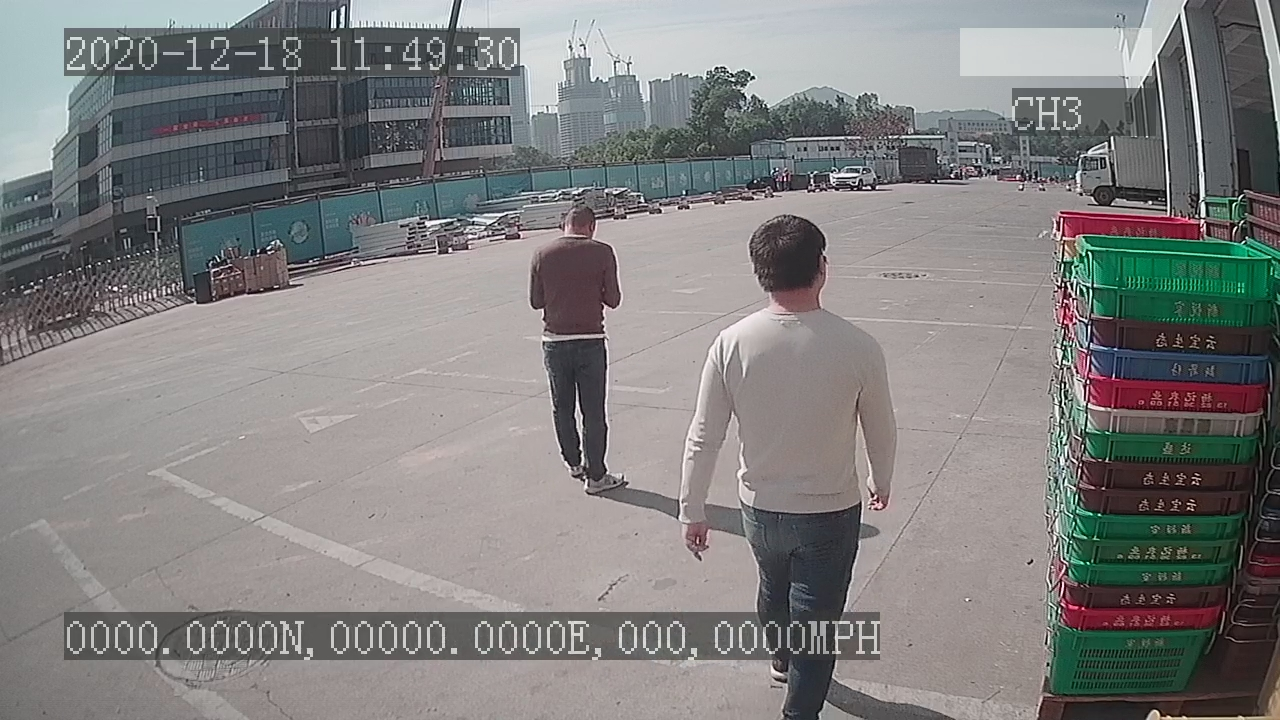person: (522, 201, 627, 497)
